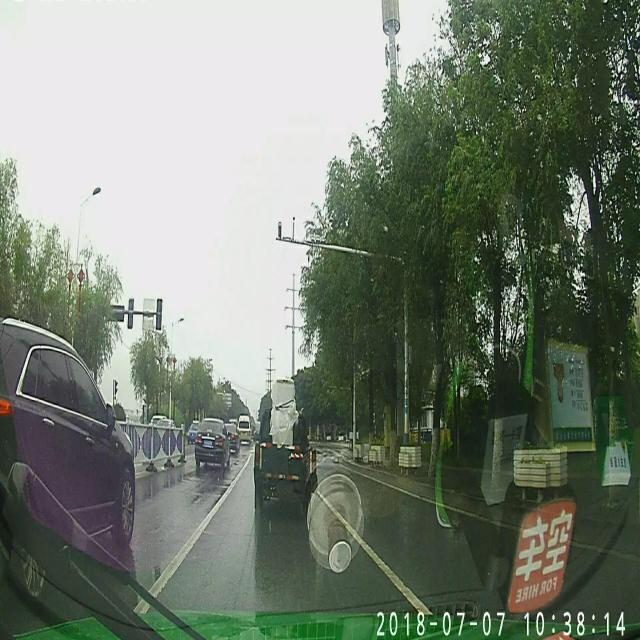car: (0, 317, 136, 593), (254, 378, 310, 522), (194, 416, 230, 469), (238, 412, 252, 442)
